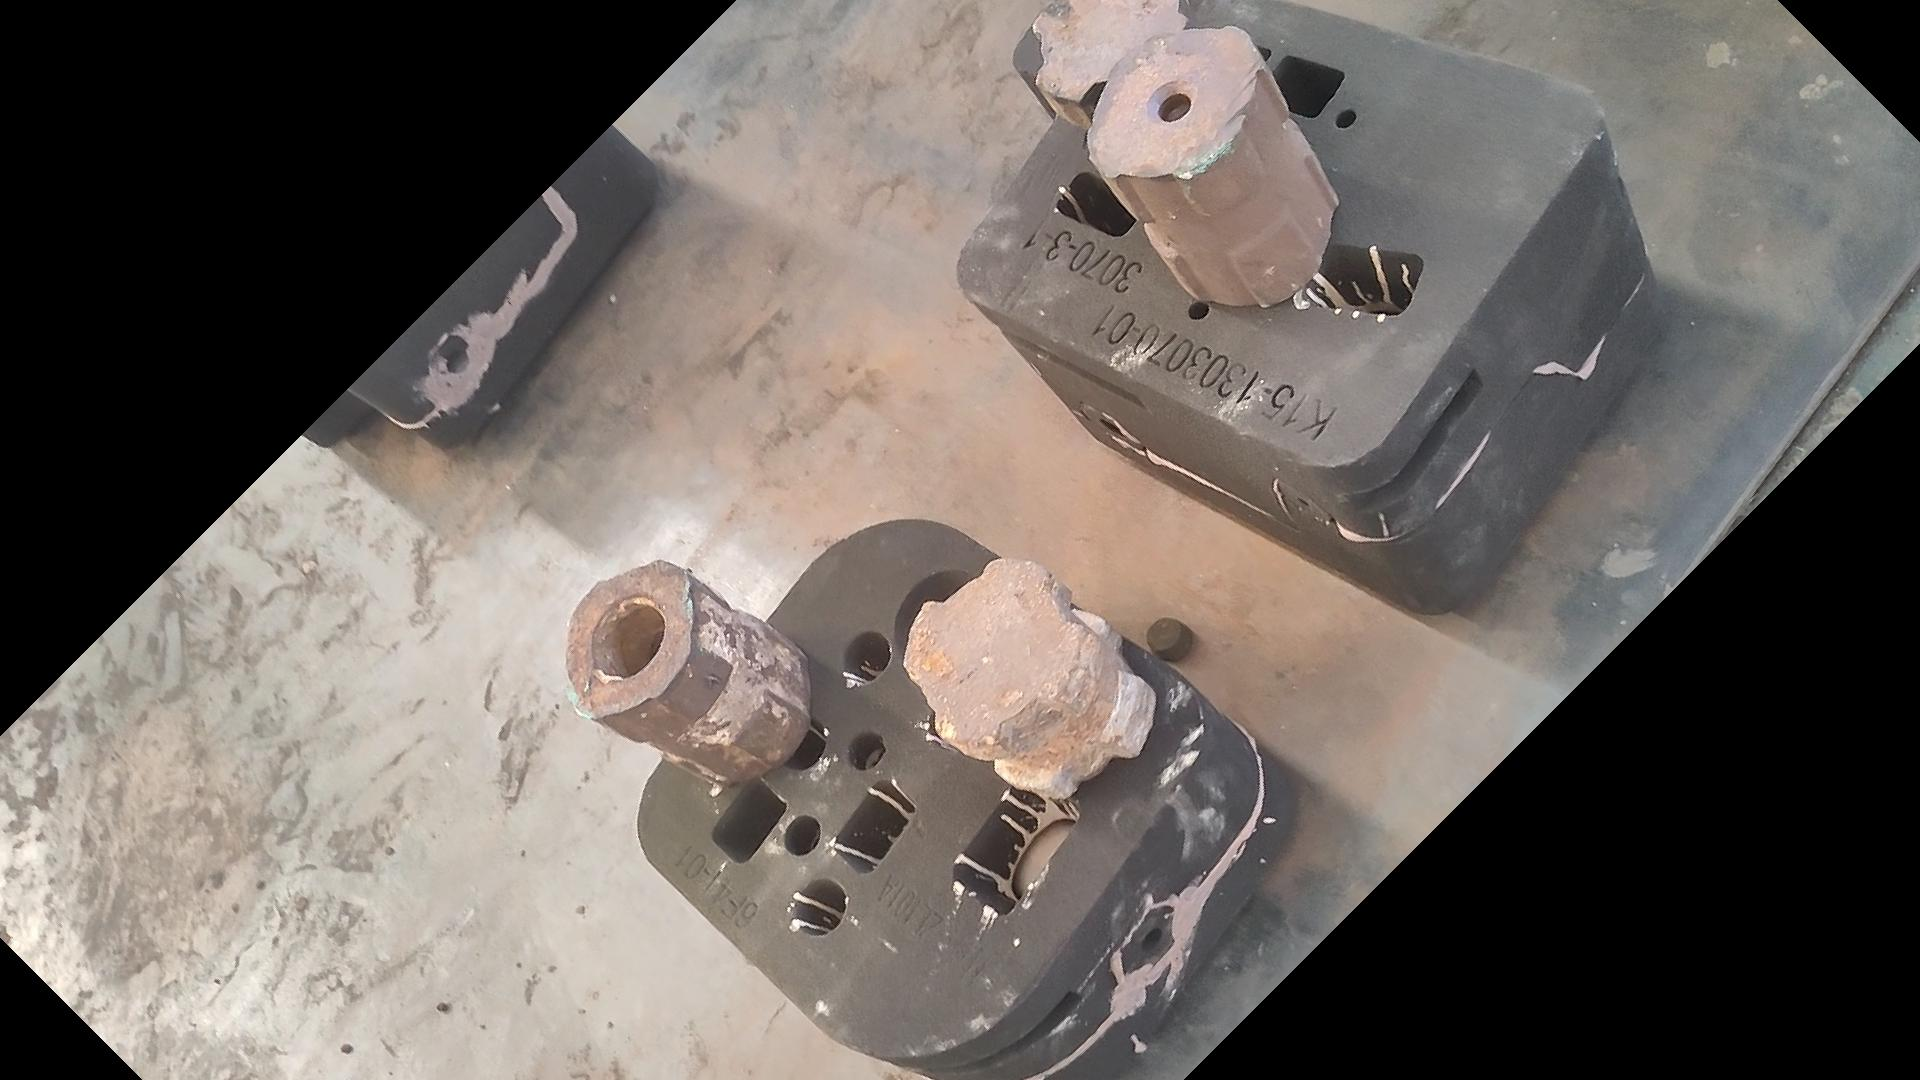pouring hole: (893, 567, 990, 671), (1062, 9, 1153, 79)
